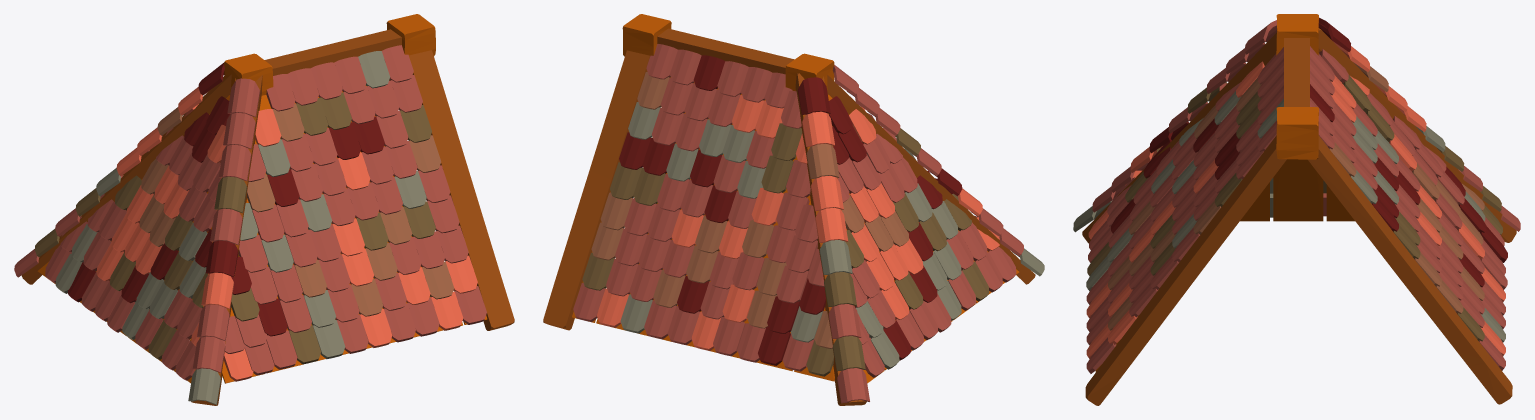
The model's file is NormalRoofOneEnd.fbx.
The picture shows the model from 3 angles, left to right: view 1: azimuth 30°, elevation 25°; view 2: azimuth 150°, elevation 25°; view 3: azimuth 270°, elevation 25°; orthographic projection. The views are drawn at different scales.
Visible parts, largest first — view 1: NormalRoofOneEnd_LOD0; view 2: NormalRoofOneEnd_LOD0; view 3: NormalRoofOneEnd_LOD0.
Part boxes in pixels (box(x1,y1,x2,y2)): NormalRoofOneEnd_LOD0: box(14, 14, 514, 405); NormalRoofOneEnd_LOD0: box(543, 14, 1044, 405); NormalRoofOneEnd_LOD0: box(1073, 14, 1520, 405).
Size of what is drawn, in the model's own units: 2102 by 1538 by 2143.
